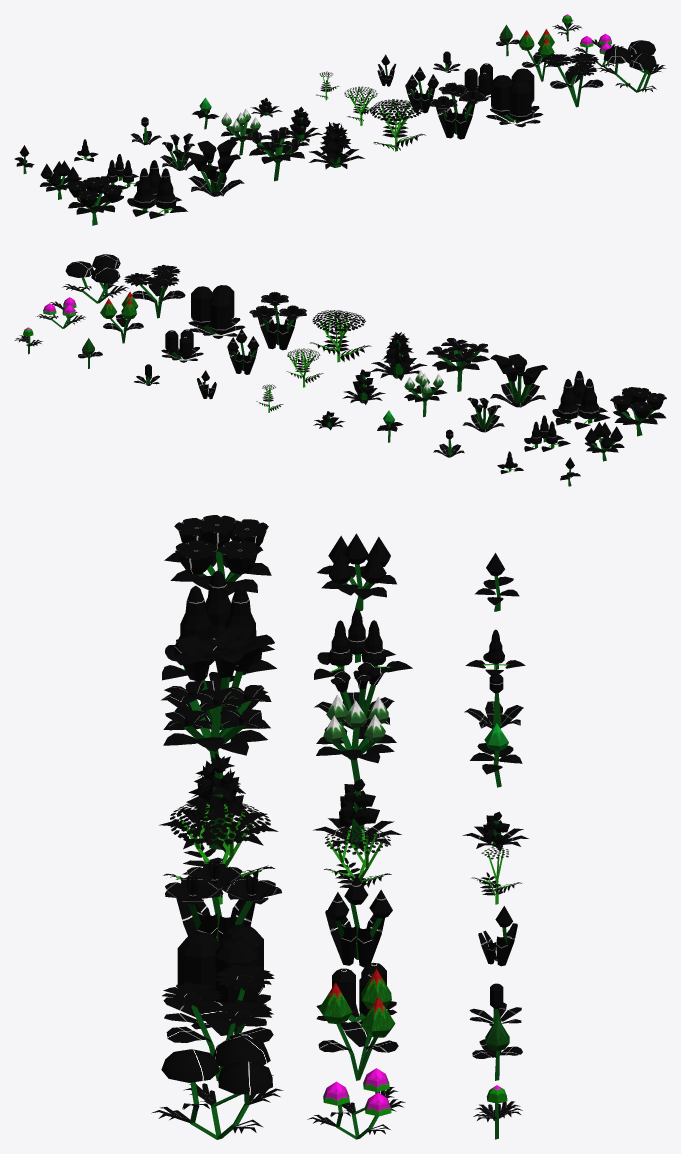
File: FlowersLvl4Decorative.fbx
The picture shows the model from 3 angles, top to bottom: view 1: azimuth 30°, elevation 25°; view 2: azimuth 150°, elevation 25°; view 3: azimuth 270°, elevation 25°; orthographic projection. The views are drawn at different scales.
Visible parts, largest first — view 1: Hyacinth3, Calla3, Lilac3, Hippeastrum3, Eustoma3, Aster3, Gerbera3, Jasmine3, Gypsophila3, Gladiolus3, Gerbera2, Hippeastrum2 (+9 smaller); view 2: Hyacinth3, Lilac3, Calla3, Hippeastrum3, Eustoma3, Aster3, Gypsophila3, Jasmine3, Gerbera3, Gladiolus3, Gerbera2, Hyacinth2 (+8 smaller); view 3: Aster3, Eustoma3, Jasmine3, Gerbera3, Hyacinth3, Hippeastrum3, Lilac3, Calla3, Gypsophila3, Gerbera2, Jasmine2, Hippeastrum2 (+16 smaller).
Boxes of the visible parts, box(x1,y1,x2,y2) form: Hyacinth3: box(486, 68, 543, 127); Calla3: box(184, 139, 244, 196); Lilac3: box(127, 160, 187, 218); Hippeastrum3: box(429, 82, 486, 139); Eustoma3: box(66, 176, 123, 225); Aster3: box(597, 40, 665, 92); Gerbera3: box(542, 53, 603, 107); Jasmine3: box(243, 127, 309, 181); Gypsophila3: box(370, 99, 425, 151); Gladiolus3: box(309, 122, 364, 169); Gerbera2: box(519, 29, 561, 81); Hippeastrum2: box(405, 67, 438, 113); Hyacinth3: box(188, 285, 245, 338); Lilac3: box(552, 370, 610, 429); Calla3: box(490, 354, 547, 407); Hippeastrum3: box(249, 292, 306, 350); Eustoma3: box(610, 387, 666, 436); Aster3: box(62, 254, 128, 303); Gypsophila3: box(309, 310, 371, 362); Jasmine3: box(426, 338, 489, 391); Gerbera3: box(124, 264, 185, 318); Gladiolus3: box(371, 332, 427, 380); Gerbera2: box(100, 291, 143, 343); Hyacinth2: box(161, 329, 203, 362); Aster3: box(151, 1037, 283, 1139); Eustoma3: box(164, 515, 271, 595); Jasmine3: box(163, 681, 271, 775); Gerbera3: box(162, 965, 274, 1080); Hyacinth3: box(164, 924, 271, 1033); Hippeastrum3: box(165, 860, 281, 940); Lilac3: box(162, 570, 276, 681); Calla3: box(161, 623, 274, 730); Gypsophila3: box(163, 800, 274, 904); Gerbera2: box(318, 968, 398, 1080); Jasmine2: box(316, 694, 396, 781); Hippeastrum2: box(325, 876, 392, 967).
Bounding box in the file's own units: 984 × 80.47 × 273.
